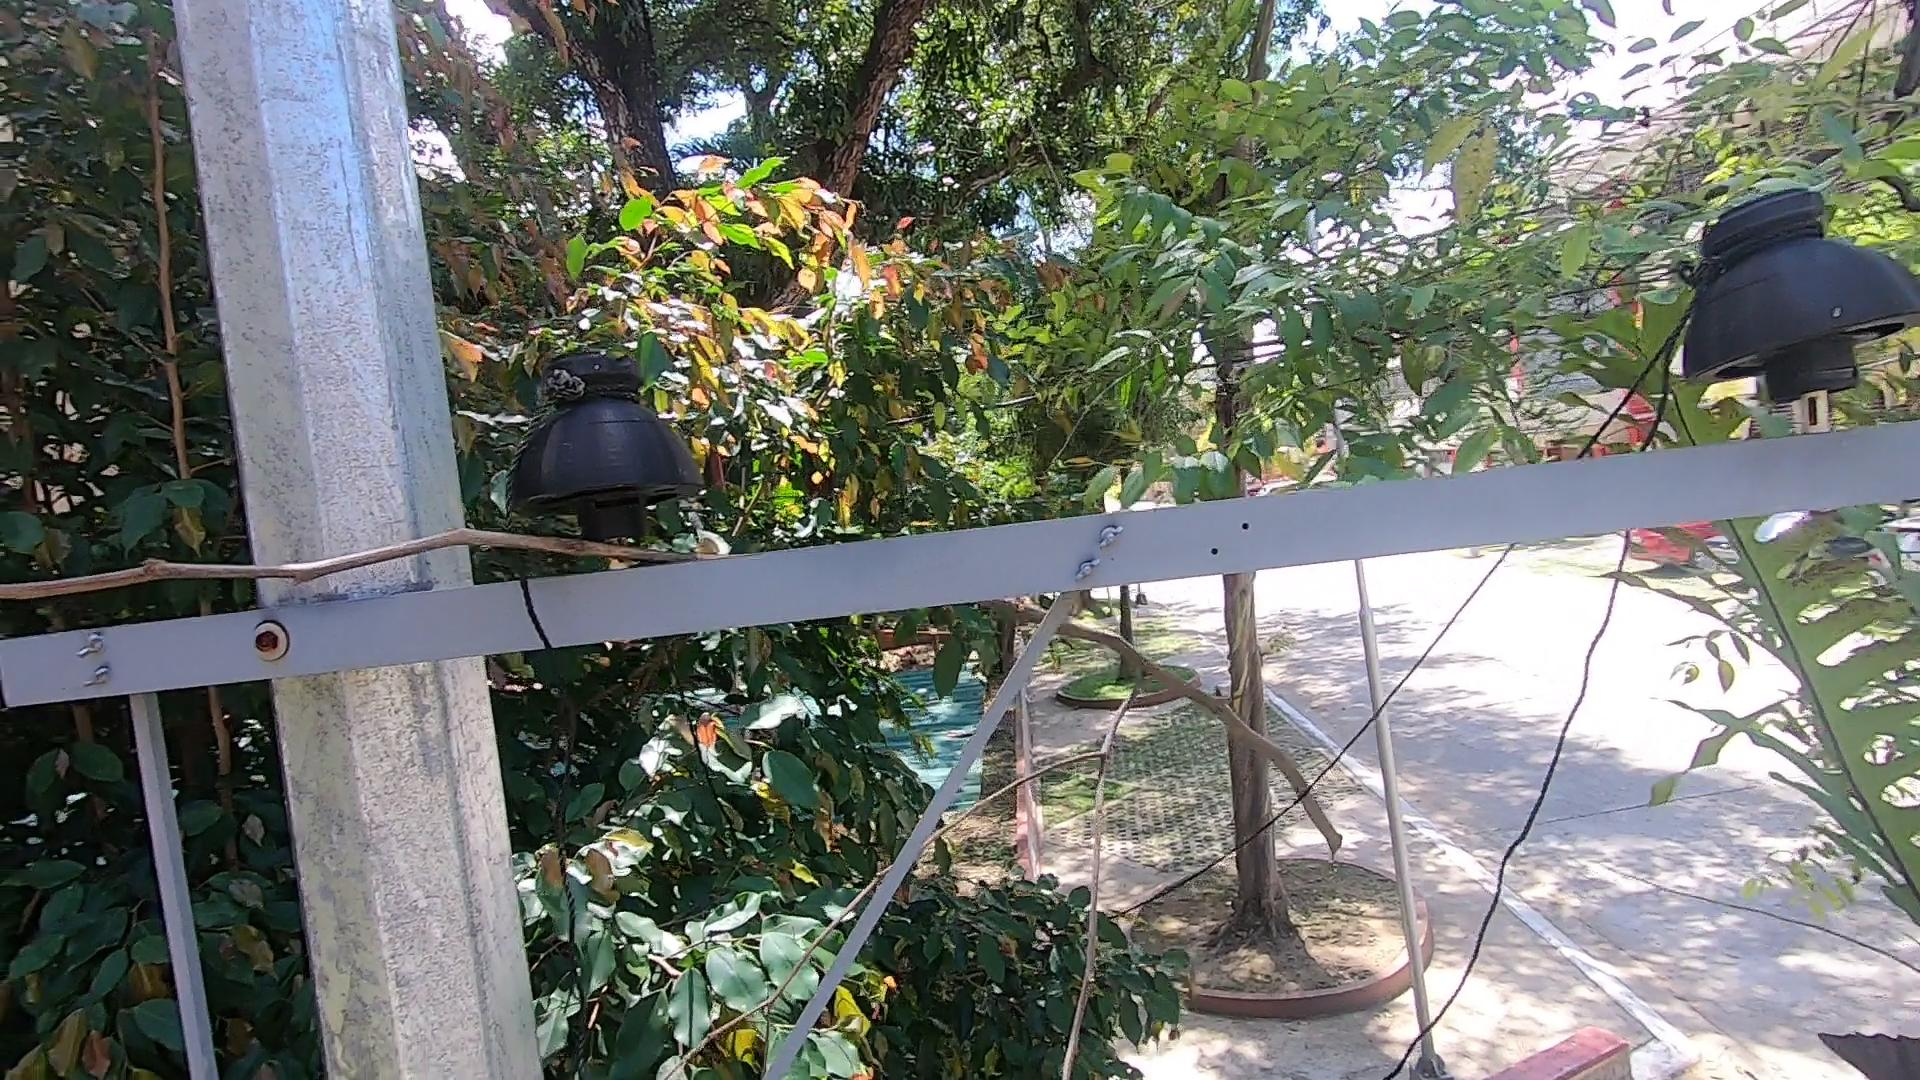tree branch: (7, 491, 1391, 928)
